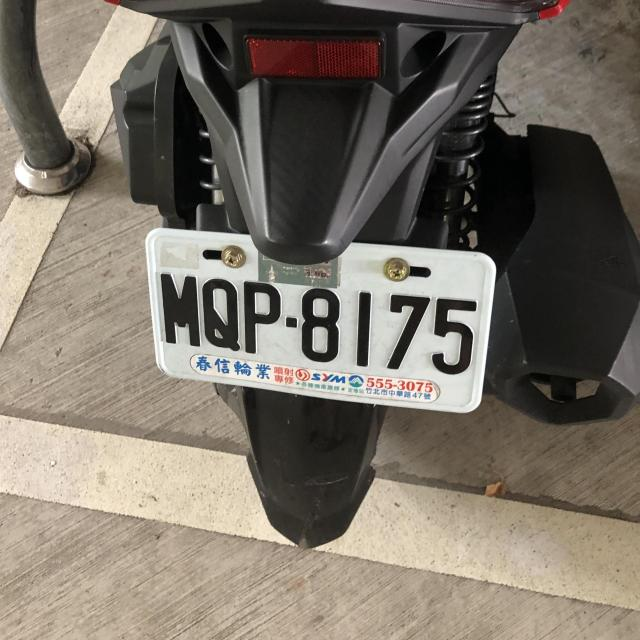W: (135, 227, 503, 417)
